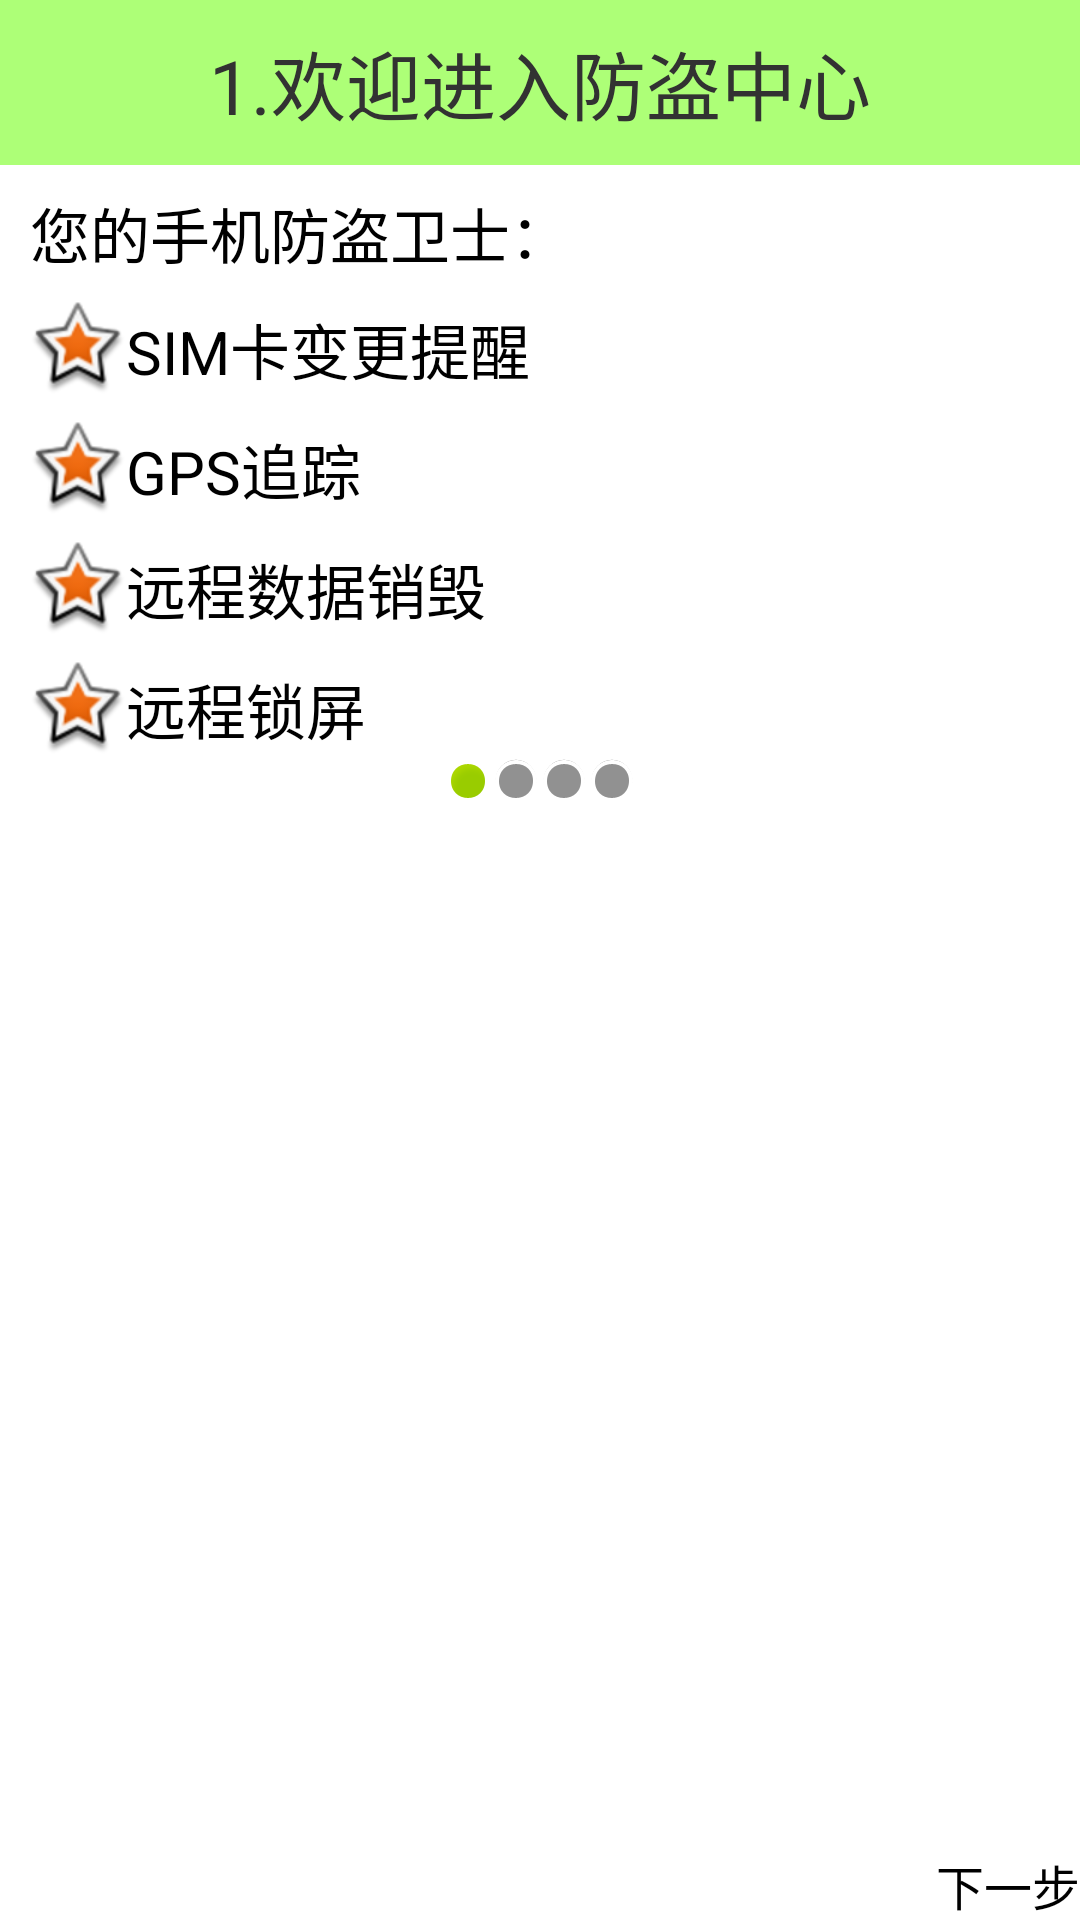

Icons on this 1080*1920 Android screen, each with its box as (x1, y1, x2, y2):
presence invisible: (499, 760, 533, 798), (547, 760, 581, 798), (595, 760, 629, 798)
presence online: (451, 764, 485, 798)
